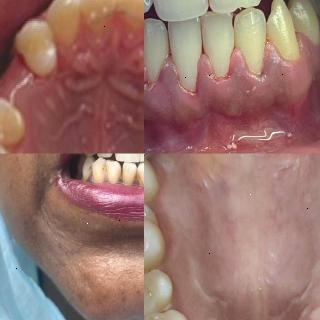maligned: (105, 157, 122, 181), (90, 156, 108, 178), (122, 158, 138, 182), (138, 160, 144, 182)
plaque: (150, 264, 180, 320)
stains: (124, 167, 136, 185), (112, 165, 124, 183), (134, 168, 144, 186), (84, 162, 94, 178), (99, 162, 107, 180)
